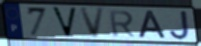7: (24, 6, 49, 37)
A: (138, 10, 168, 41)
J: (168, 10, 192, 42)
R: (108, 10, 137, 38)
V: (78, 7, 107, 40), (50, 6, 79, 39)
